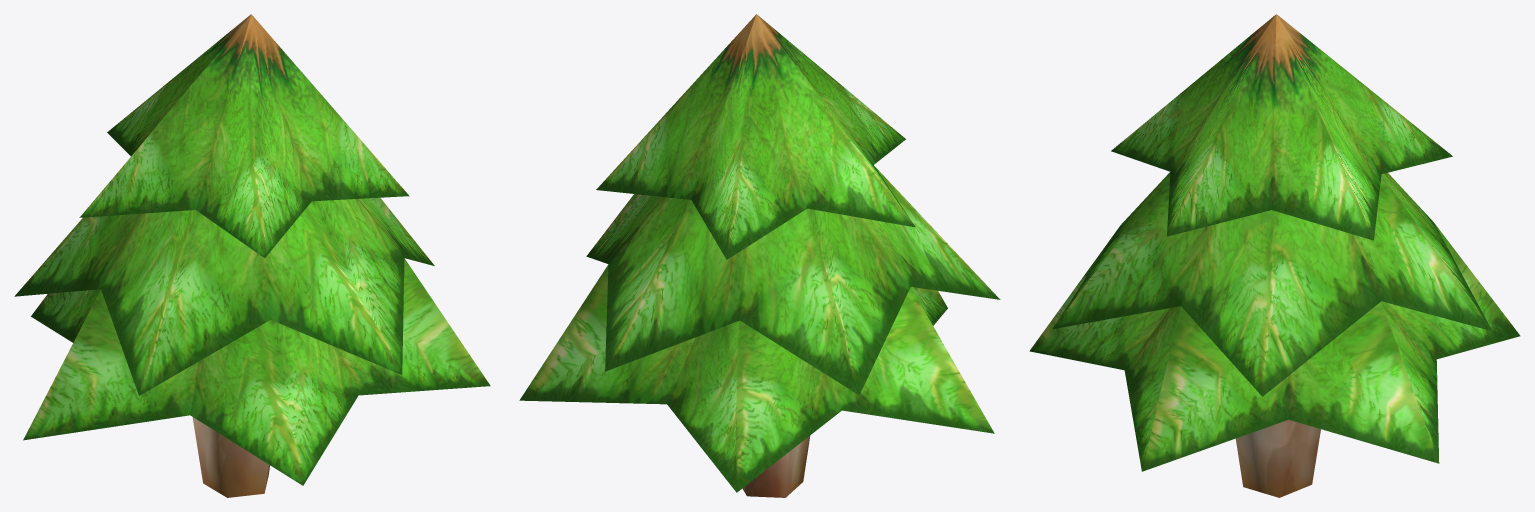
Rendered from BKS_Set3_ConiferA.fbx.
3 views of the same model, side by side, from view 1: azimuth 30°, elevation 25°; view 2: azimuth 150°, elevation 25°; view 3: azimuth 270°, elevation 25° (orthographic).
Visible parts, largest first — view 1: coniferA; view 2: coniferA; view 3: coniferA.
Boxes of the visible parts, x1,y1,x2,y2 form: coniferA: [14, 14, 490, 497]; coniferA: [519, 14, 1000, 497]; coniferA: [1029, 14, 1520, 497].
Size of the model in its own units: 6.22 by 6.77 by 6.35.
